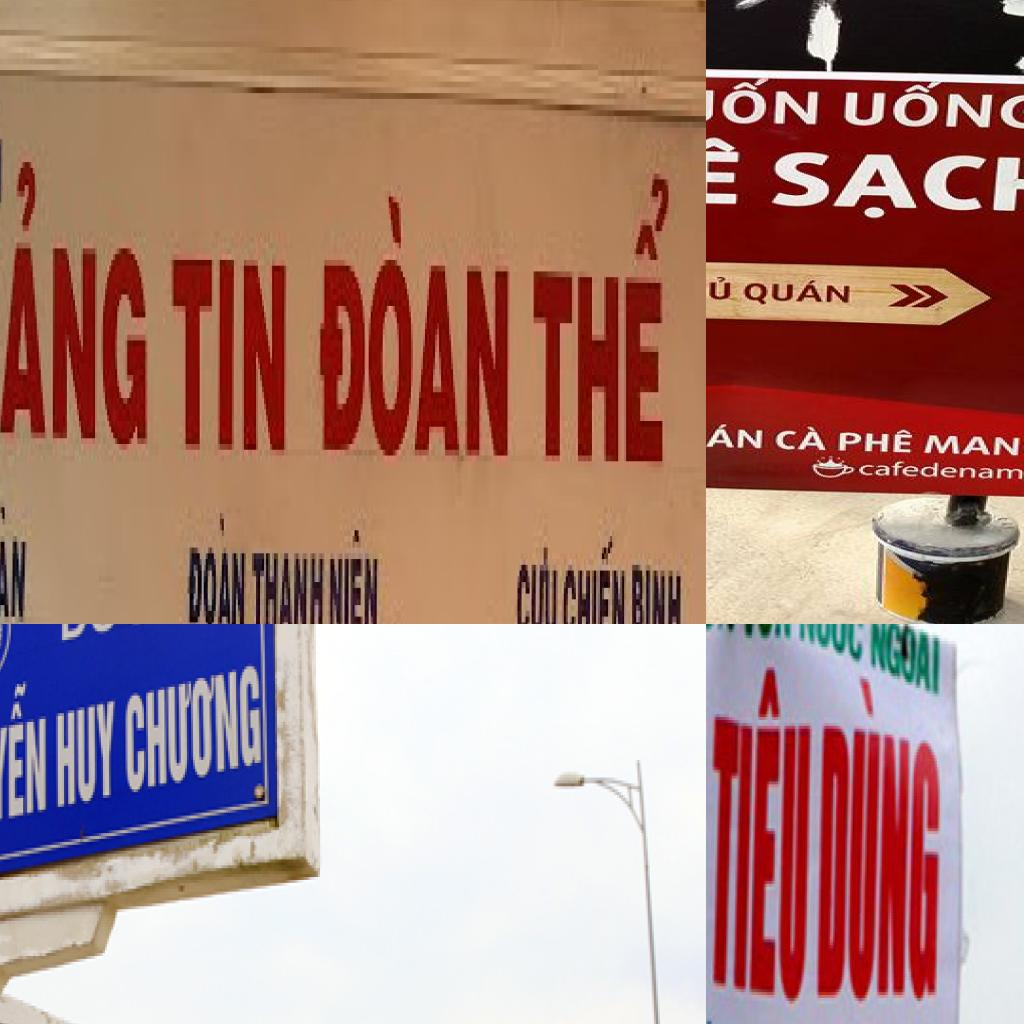text: (306, 174, 516, 472), (0, 139, 155, 478), (526, 162, 674, 484), (812, 667, 949, 1010), (706, 646, 816, 1015), (168, 231, 292, 479), (752, 149, 1024, 220), (121, 664, 265, 795), (840, 78, 1024, 134), (177, 507, 252, 624), (0, 672, 48, 839), (52, 698, 121, 812), (561, 524, 628, 624), (326, 513, 386, 624), (249, 541, 328, 624), (706, 75, 822, 128), (869, 624, 943, 702), (47, 624, 223, 652), (511, 530, 563, 624), (0, 501, 34, 624), (742, 275, 859, 309), (706, 133, 754, 204), (915, 430, 1024, 460), (796, 624, 865, 667), (833, 426, 914, 454), (706, 422, 766, 452), (774, 424, 832, 454), (739, 624, 793, 650), (706, 275, 737, 304)
